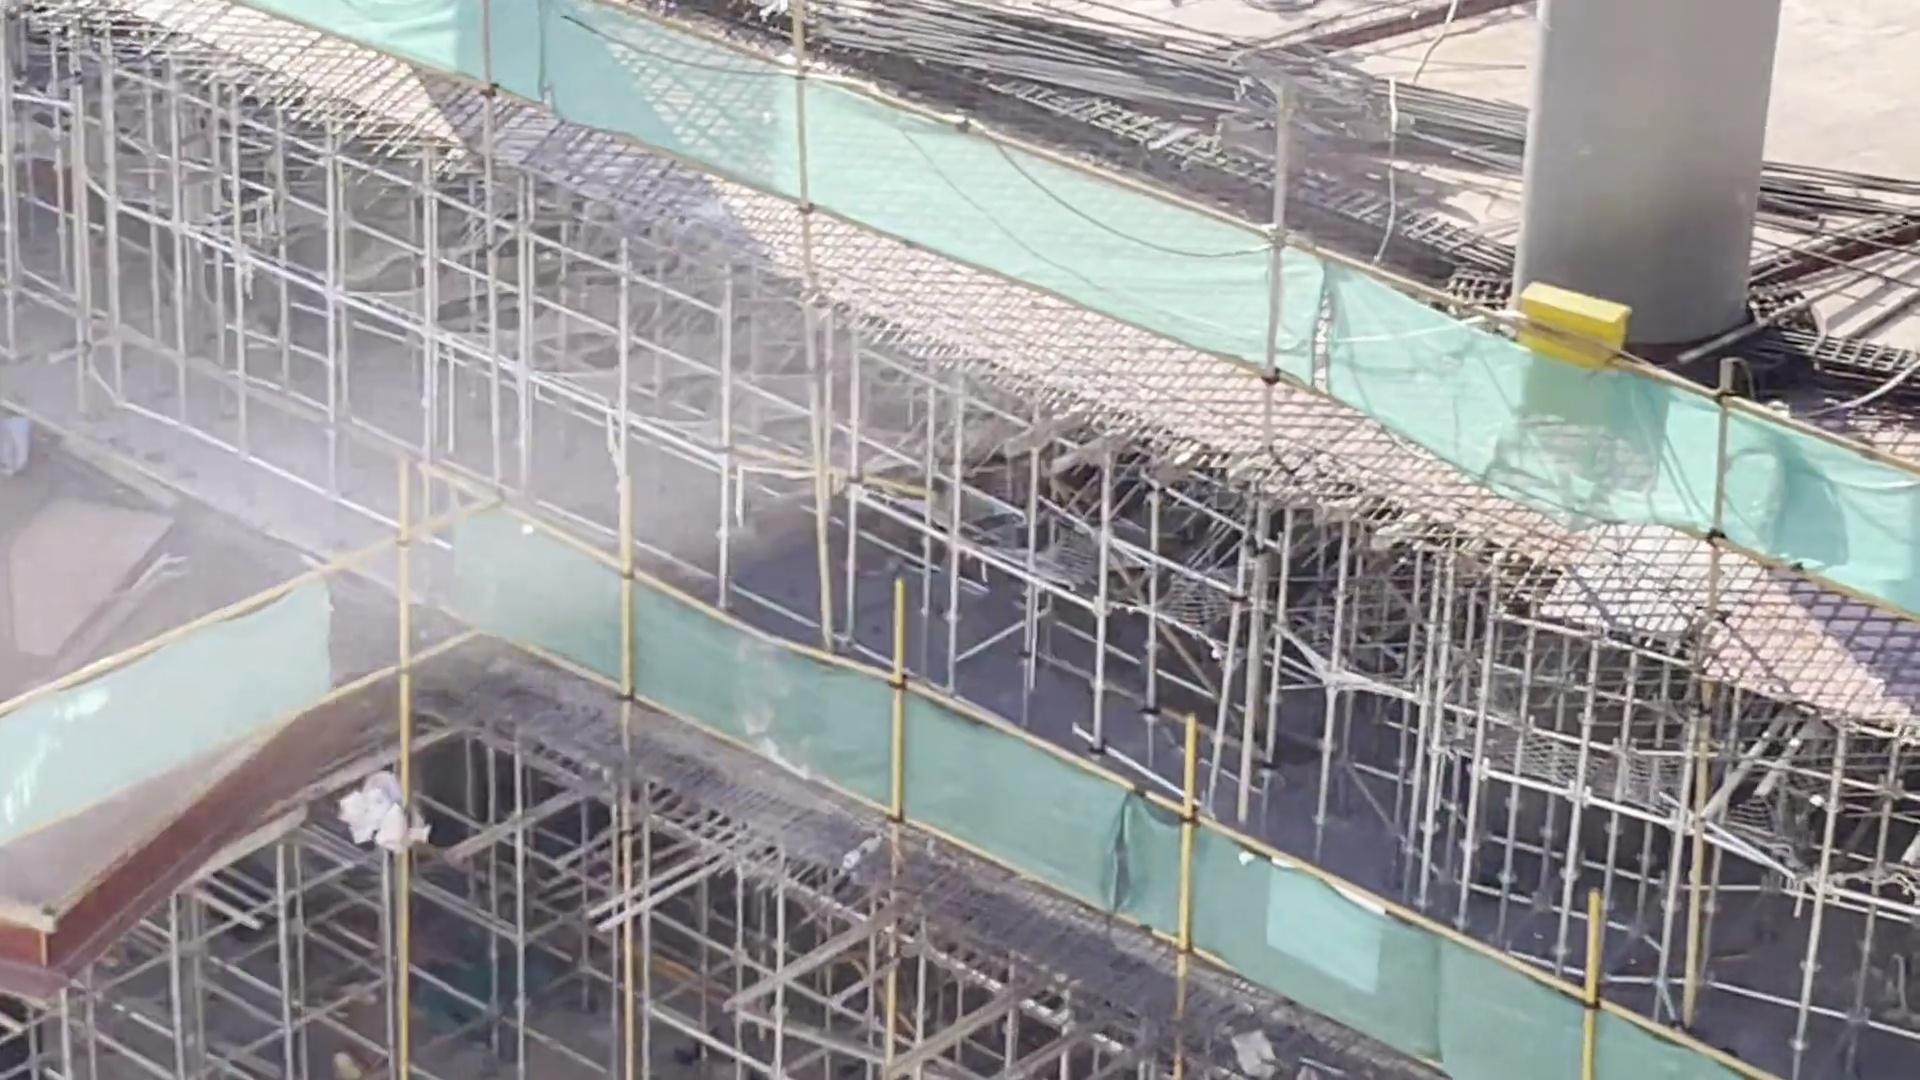ebox: (1507, 278, 1621, 450)
